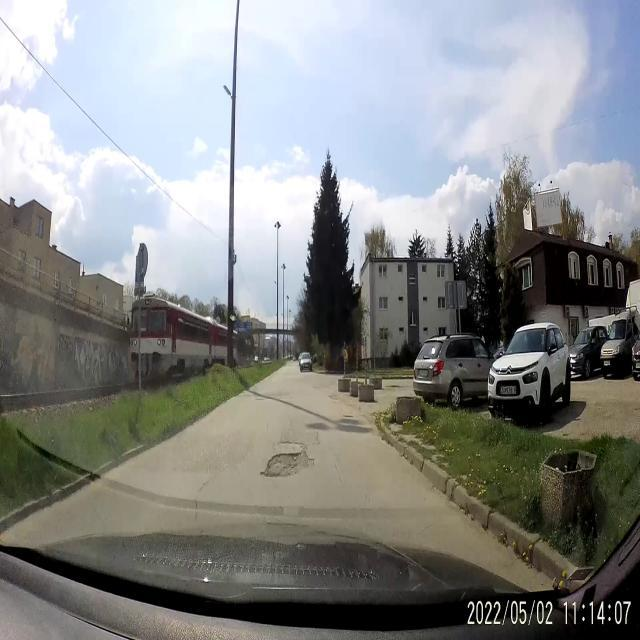Pothole: (264, 445, 314, 483)
